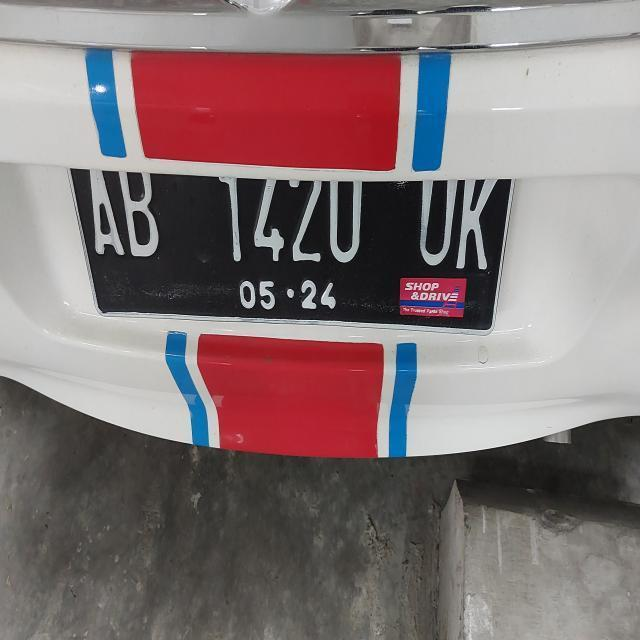0: (330, 172, 363, 266)
1: (216, 175, 246, 263)
2: (291, 168, 325, 264)
4: (250, 176, 290, 262)
A: (78, 163, 124, 268)
B: (120, 161, 162, 259)
K: (460, 178, 500, 266)
U: (422, 171, 456, 269)
